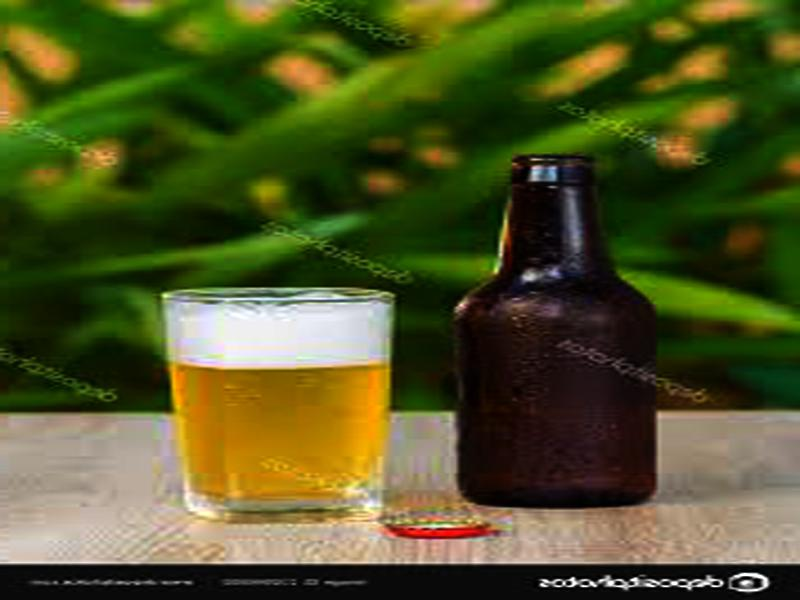Beer: (457, 156, 646, 509)
